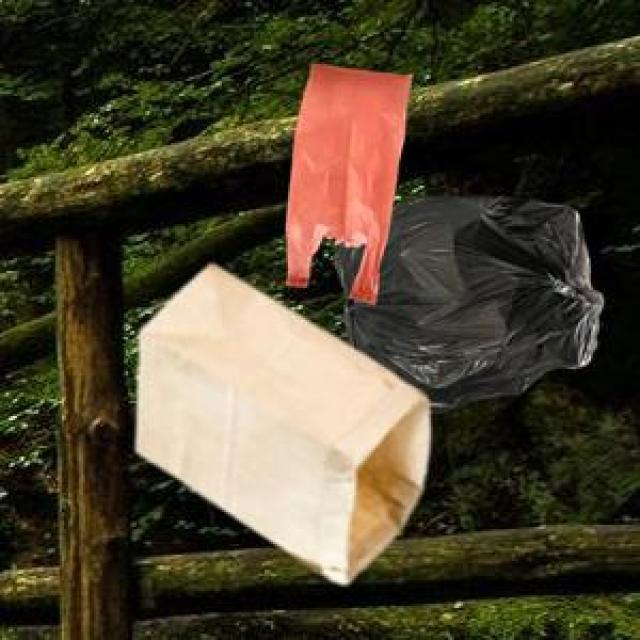miscellaneous trash: (331, 192, 600, 410)
paper: (132, 260, 425, 580)
